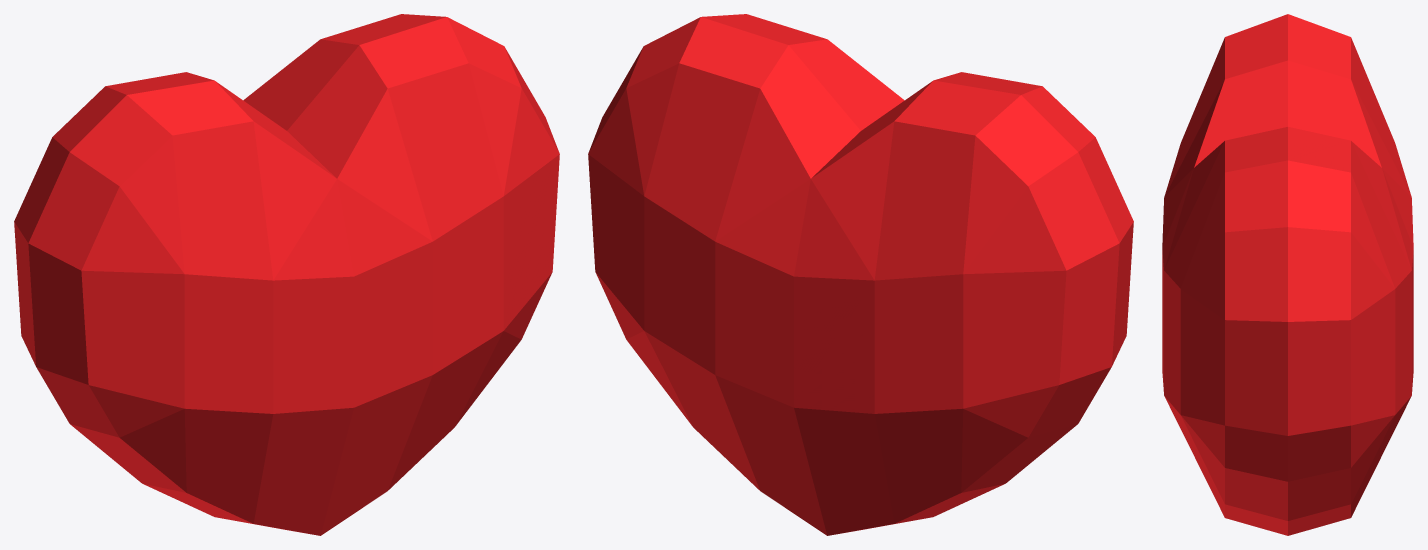
The model's file is heart.glb.
3 views of the same model, side by side, from view 1: azimuth 30°, elevation 25°; view 2: azimuth 150°, elevation 25°; view 3: azimuth 270°, elevation 25° (orthographic). The views are drawn at different scales.
Parts seen in each view (by area): view 1: Mesh; view 2: Mesh; view 3: Mesh.
Boxes of the visible parts, x1,y1,x2,y2 form: Mesh: (14,14,559,535); Mesh: (588,14,1133,535); Mesh: (1162,14,1413,535).
Bounding box in the file's own units: 0.0595 × 0.0521 × 0.0267.
